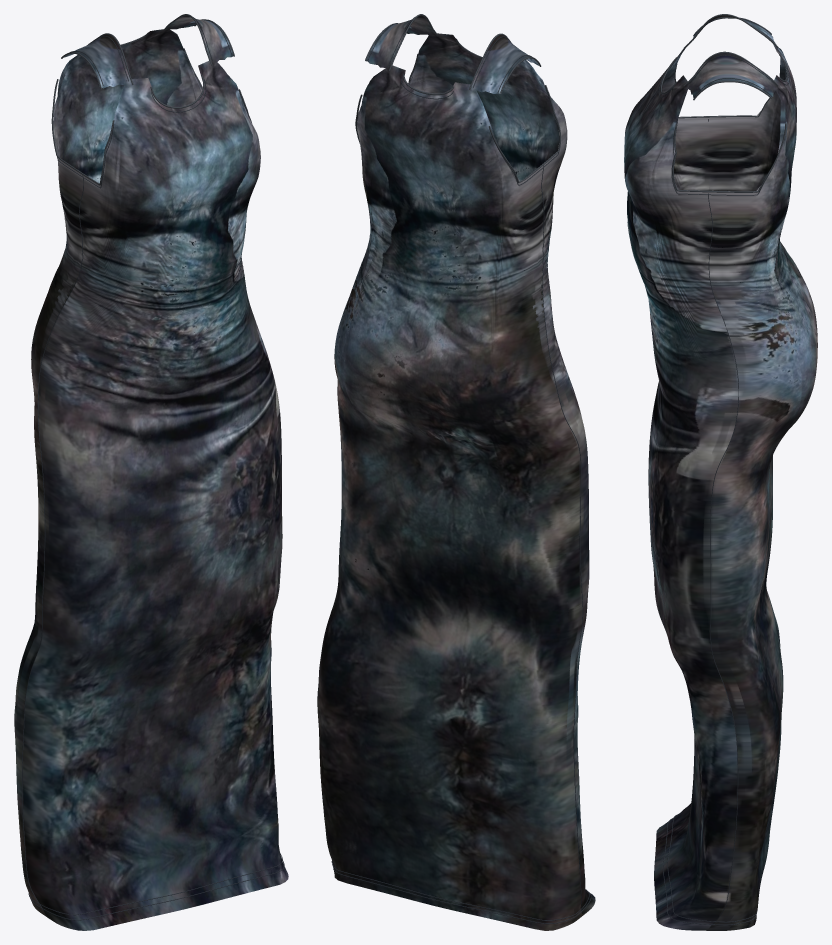
File: vestido-largo-estampado_XL.glb
The picture shows the model from 3 angles, left to right: view 1: azimuth 30°, elevation 25°; view 2: azimuth 150°, elevation 25°; view 3: azimuth 270°, elevation 25°; orthographic projection. The views are drawn at different scales.
Parts seen in each view (by area): view 1: vestido-frente, vestido-espalda, tirante (×2), pespunte; view 2: vestido-espalda, vestido-frente, tirante (×2), pespunte; view 3: vestido-frente, vestido-espalda, tirante, pespunte, ribete.
Part boxes in pixels (<box>): vestido-frente: <box>22,58,288,930</box>; vestido-espalda: <box>14,28,202,916</box>; tirante (×2): <box>64,15,233,88</box>; pespunte: <box>22,175,83,910</box>; vestido-espalda: <box>317,65,582,930</box>; vestido-frente: <box>409,33,595,915</box>; tirante (×2): <box>365,15,538,93</box>; pespunte: <box>541,165,583,912</box>; vestido-frente: <box>624,46,738,930</box>; vestido-espalda: <box>707,44,817,930</box>; tirante: <box>688,51,777,98</box>; pespunte: <box>708,193,738,926</box>; ribete: <box>672,123,786,192</box>.
Bounding box in the file's own units: 0.436 × 1.44 × 0.2992.
3 materials, 1 textured.
